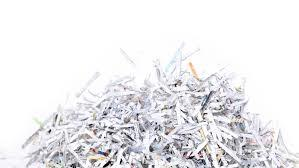Paper shavings: (22, 31, 299, 168)
